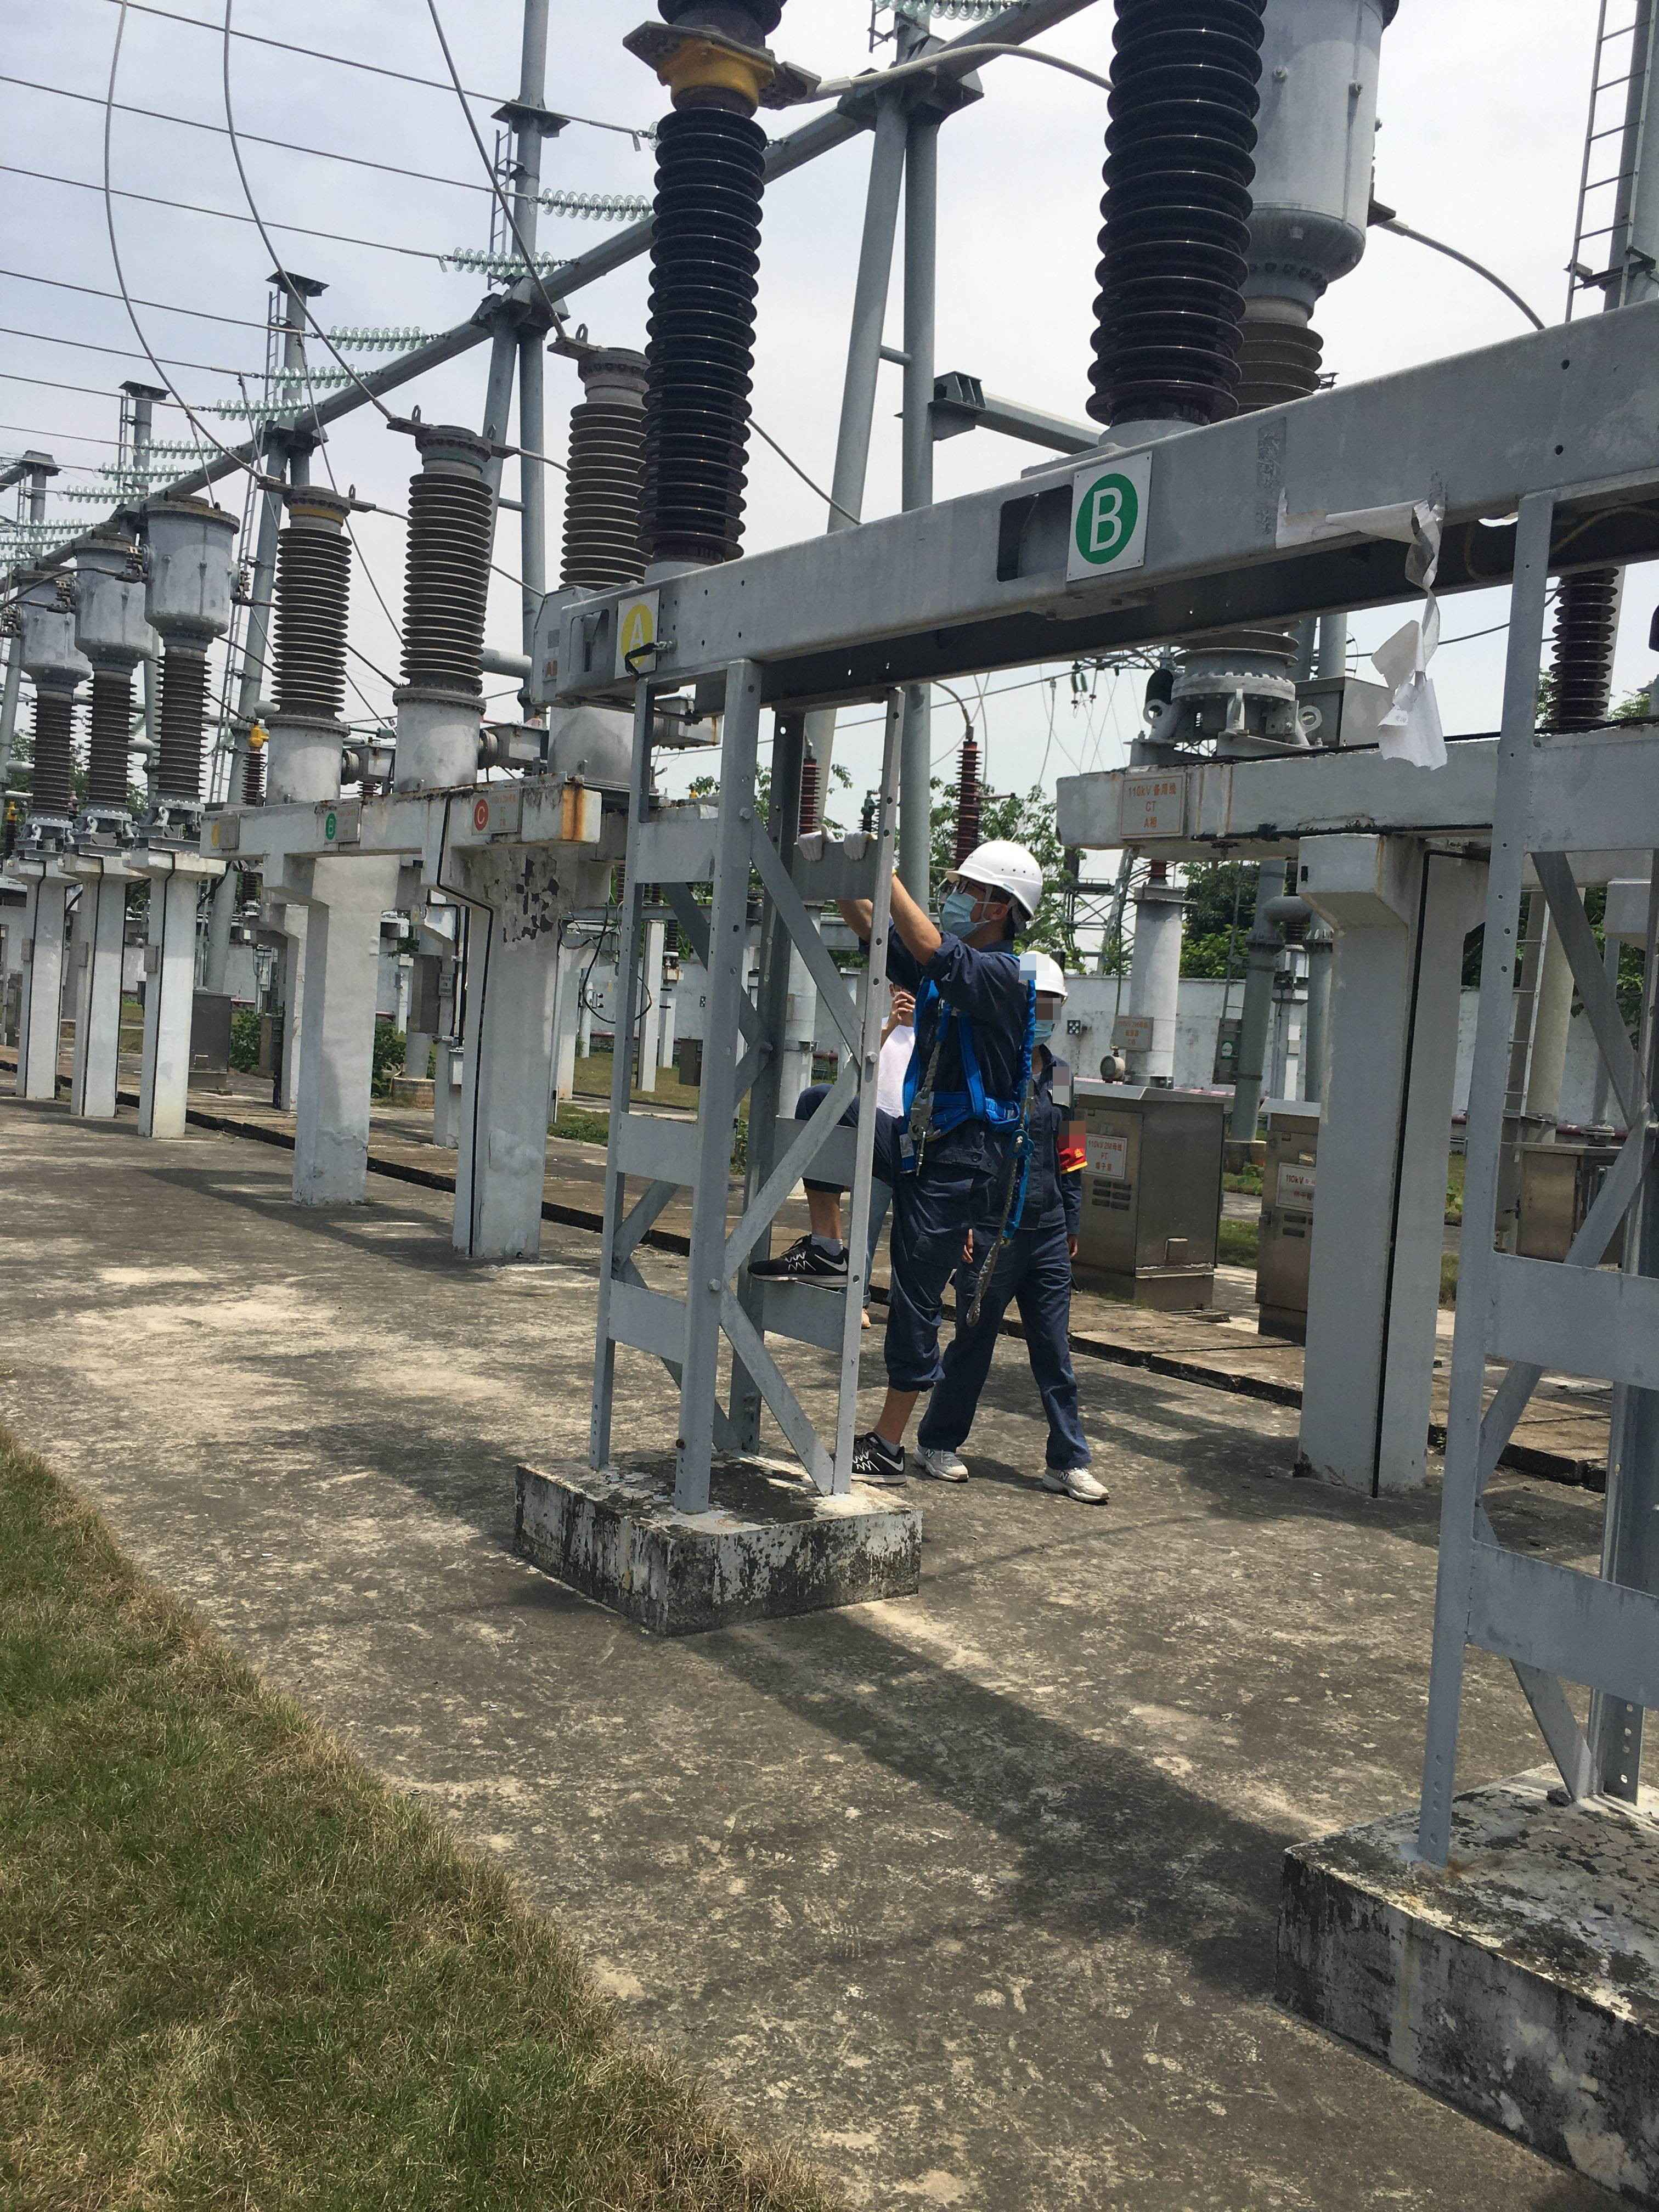downsuit: (791, 1082, 1019, 1395), (918, 1217, 1094, 1474)
upsuit: (863, 918, 1032, 1183), (976, 1050, 1091, 1238)
wrongbottom: (870, 1353, 943, 1451), (803, 1177, 849, 1242)
wrongtop: (889, 866, 958, 981)
